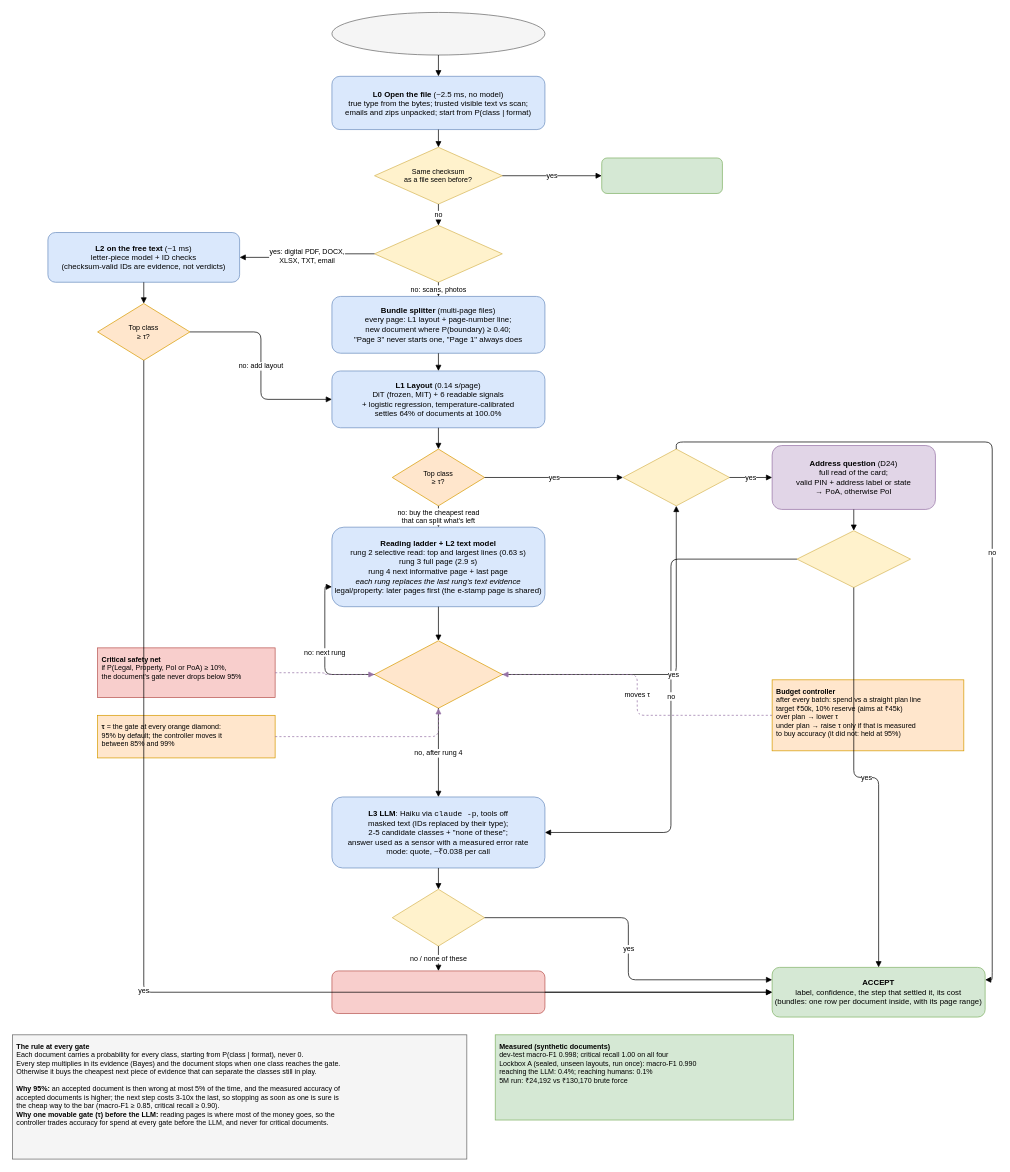
The diagram is 1010 pixels wide and 1172 high, and some of its shapes have lost their labels. The centre of each missing label's shape, as x and y in pixels:
"Copy the first copy's label (free)" belongs at [661,175].
"Is it a KYC ID document?" belongs at [676,477].
"L4 Human review benchmark ₹1 per document dev-test share: 0.1%" belongs at [438,992].
"P(KYC) × P(answer) ≥ 95%?" belongs at [853,559].
"S3 bucket 5M objects + the free manifest (key, size, checksum)" belongs at [438,33].
"Top class ≥ 95%?" belongs at [438,917].
"Top class ≥ τ? (after each rung)" belongs at [438,674].
"Trusted visible text on page 1?" belongs at [438,253].
